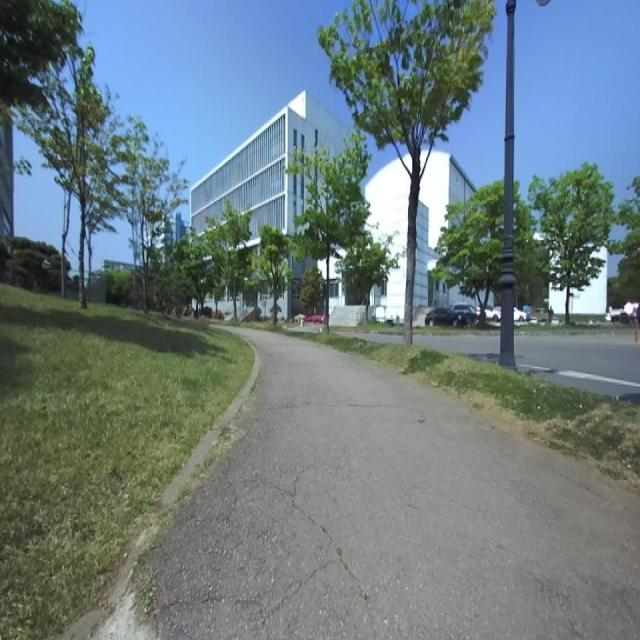sidewalk: (94, 328, 640, 639)
